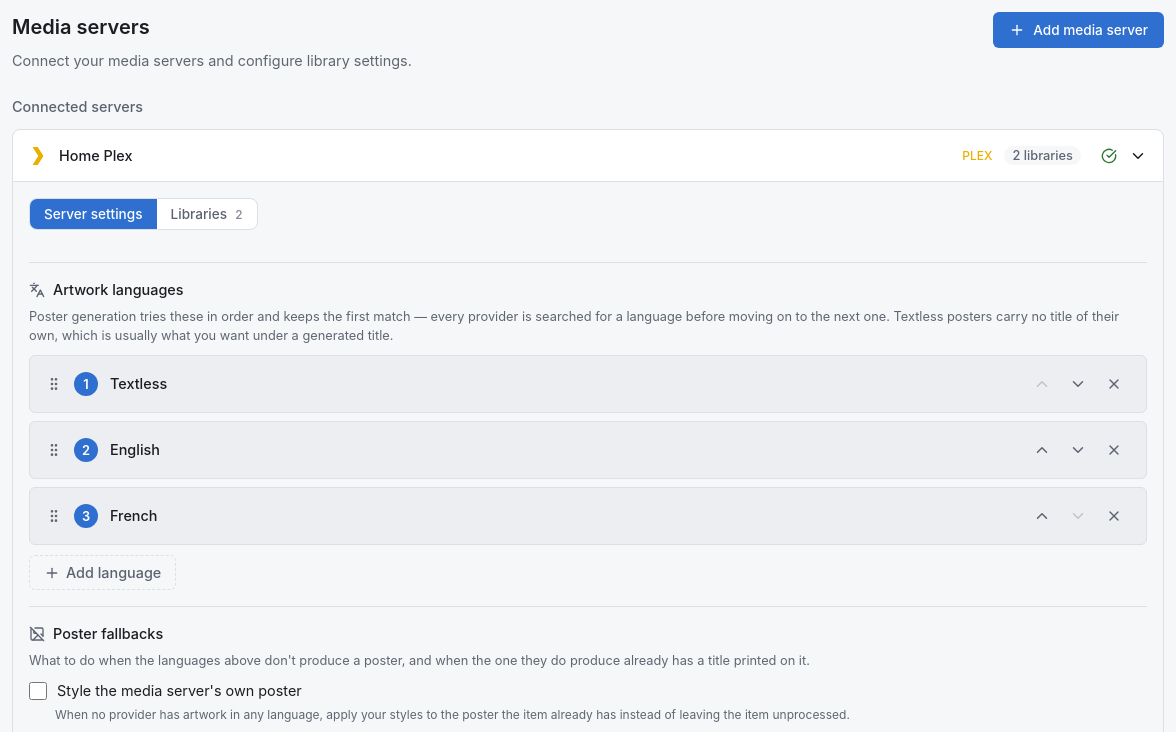
MediaServersSettings card expansion › opens the first server without a click, so its libraries are one click away
Click the button "Libraries 2".
click(207, 214)  # box [156, 199, 257, 229]
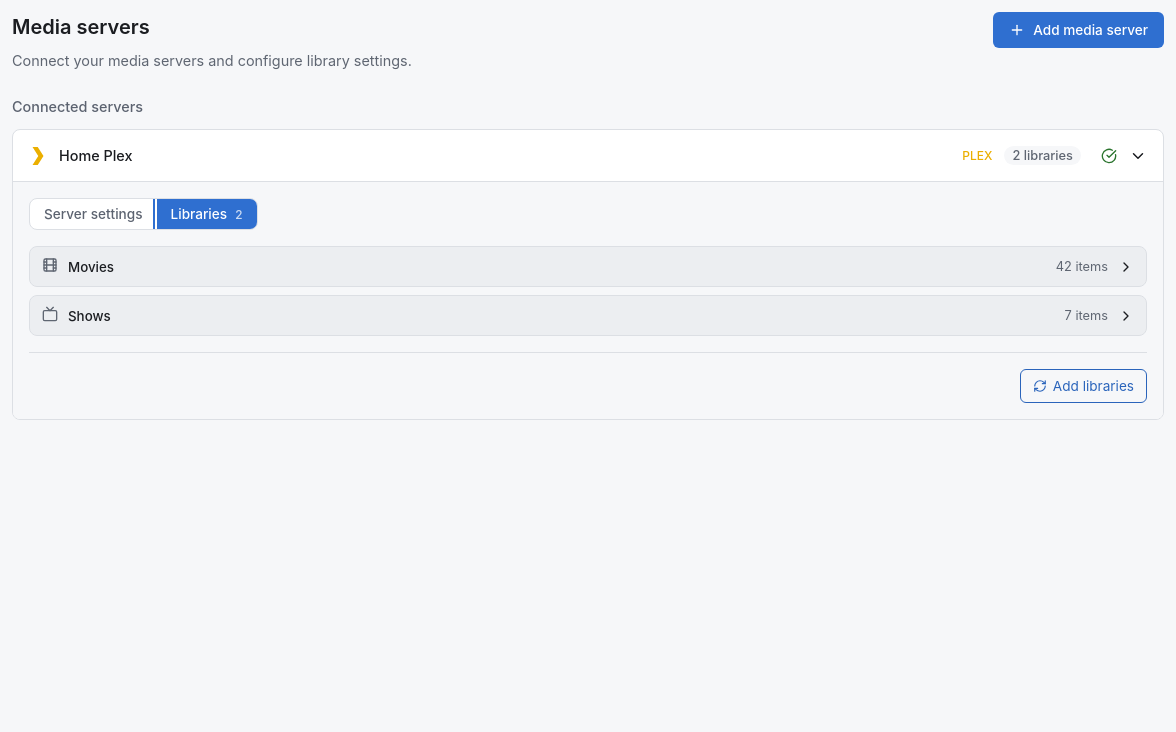
Check: the button "Movies 42 items" is shown, box [30, 247, 1146, 286]
